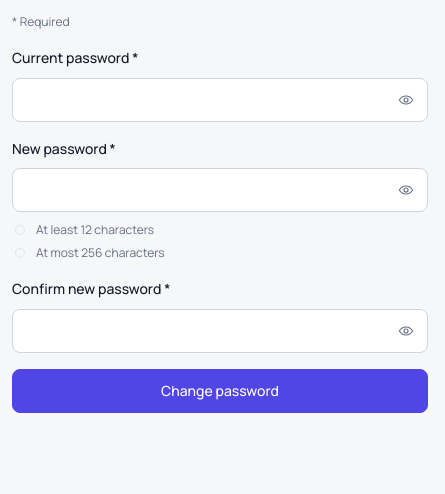
ChangePasswordForm › shows a wrong current password inline and keeps everything the user typed
Type "the-old-passphrase" into the password field labelled "Current password *". click: (220,100)
box: [12, 78, 428, 122]
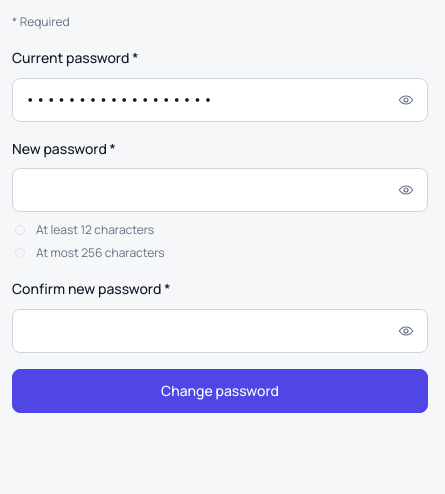
Type "a-perfectly-fine-passphrase" into the password field labelled "New password *". click: (220,190)
box: [12, 168, 428, 212]
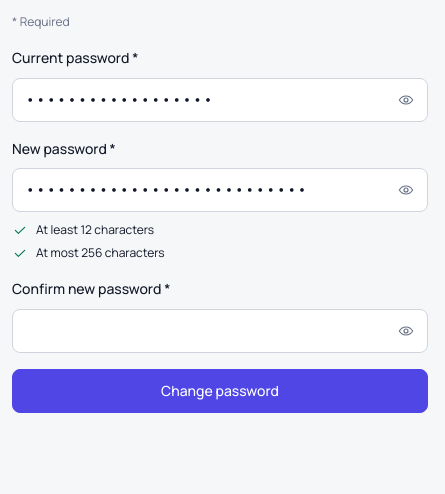
Type "a-perfectly-fine-passphrase" into the password field labelled "Confirm new password *". click: (220,331)
box: [12, 309, 428, 353]
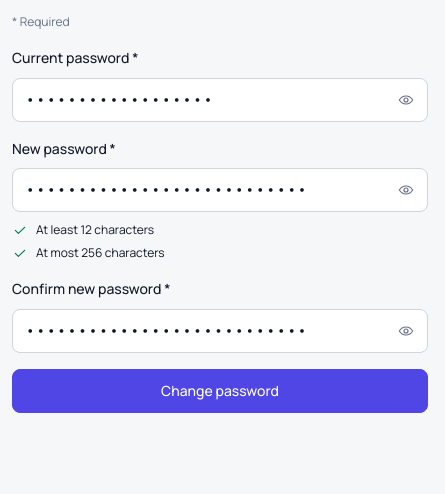
Click the button "Change password". click: (220,391)
box: [12, 369, 428, 413]
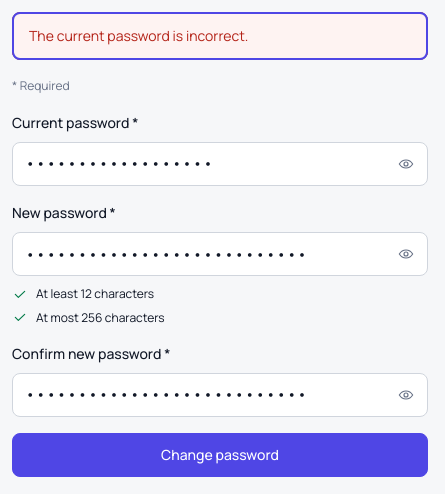
Expected: the message reads "The current password is incorrect.", [29, 26, 248, 45]
